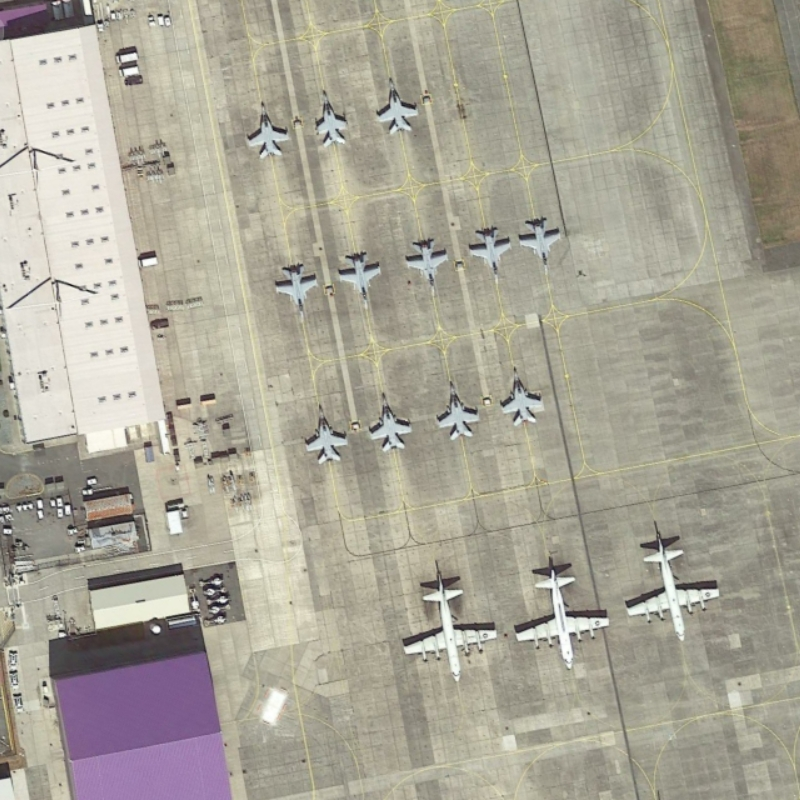A16: (333, 247, 386, 317), (463, 224, 514, 290), (242, 97, 293, 162), (302, 400, 352, 466), (366, 388, 416, 454), (271, 259, 320, 326), (400, 236, 451, 300), (496, 364, 547, 428), (516, 215, 566, 280), (433, 378, 483, 442), (375, 75, 422, 137), (309, 88, 351, 149)
A9: (398, 569, 502, 684), (622, 531, 721, 646), (511, 564, 614, 669)
